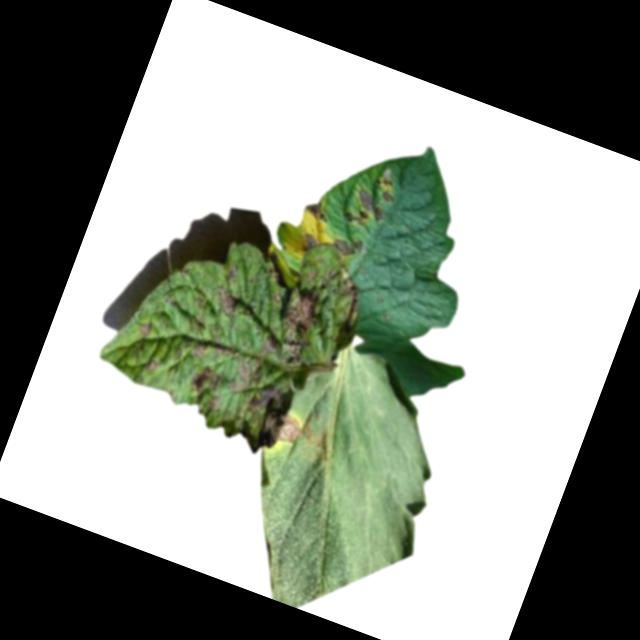Early_blight: (179, 346, 298, 457), (270, 256, 371, 382), (341, 163, 403, 235), (208, 261, 255, 318), (274, 409, 305, 447), (331, 232, 365, 262), (301, 195, 333, 223), (297, 226, 324, 255), (135, 315, 157, 338), (191, 336, 208, 357), (143, 355, 159, 372)
